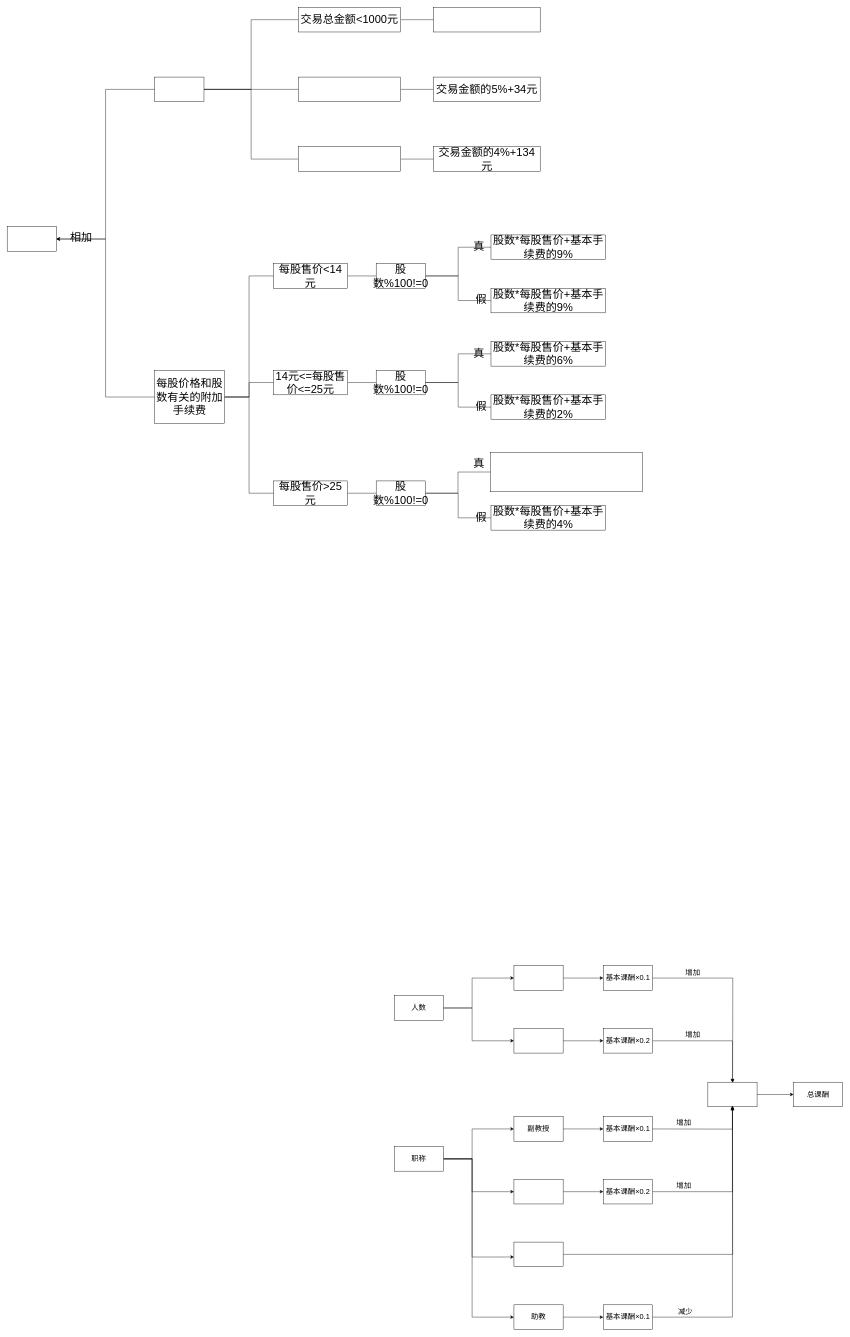
Image size: 850x1337. Some labels were removed from this diagram. The box of each missing label's shape, as (x1, y1, x2, y2) in pixels:
1000 元<= 交易总金额<= 10000 元: (298, 77, 401, 102)
交易总金额> 10000 元: (298, 146, 401, 171)
交易金额的 8.4%: (433, 7, 540, 32)
基本课酬: (707, 1082, 757, 1107)
大于>40: (514, 965, 563, 990)
大于>60: (514, 1028, 563, 1053)
总手续费: (7, 226, 56, 251)
手续费: (154, 77, 204, 102)
教授: (514, 1179, 563, 1204)
股数*每股售价+基本手续费的1.5%: (490, 452, 643, 492)
讲师: (514, 1242, 563, 1267)
